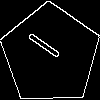I: (26, 29, 70, 67)
